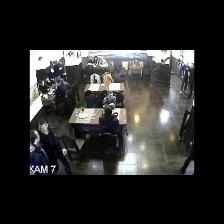person: (38, 119, 72, 174), (30, 130, 49, 171), (99, 106, 119, 134), (180, 139, 194, 175), (180, 60, 190, 94), (55, 79, 68, 105), (187, 63, 194, 98), (103, 91, 116, 109), (52, 60, 61, 80), (103, 73, 114, 84), (39, 81, 49, 93), (45, 77, 54, 86), (86, 58, 94, 68), (92, 55, 100, 65)
